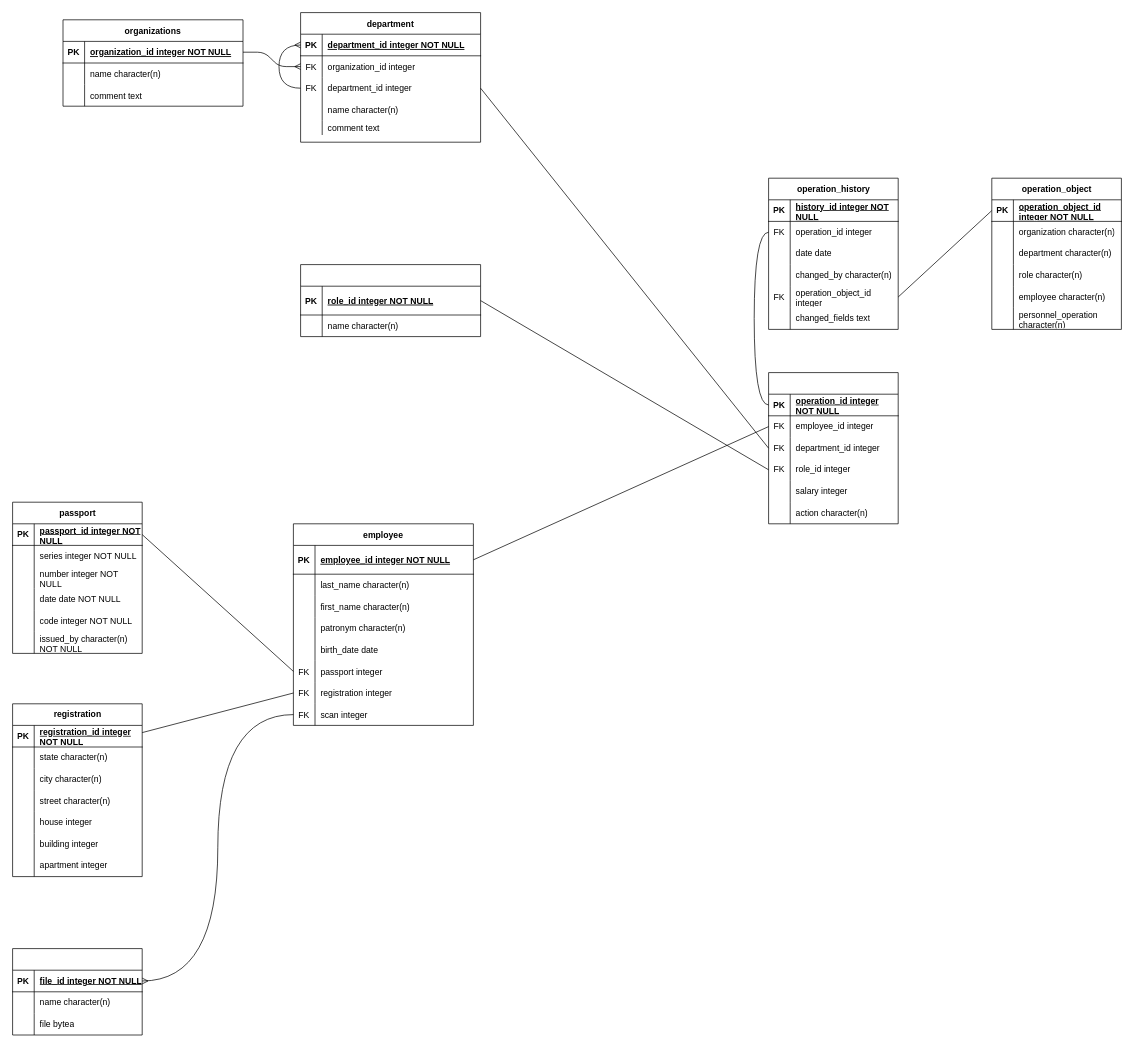
This 1134x1048 diagram has some shape labels left out. Each missing label, with the box of its shape:
files: (12, 948, 142, 1035)
personnel_operations: (768, 372, 898, 524)
roles: (300, 264, 481, 337)
